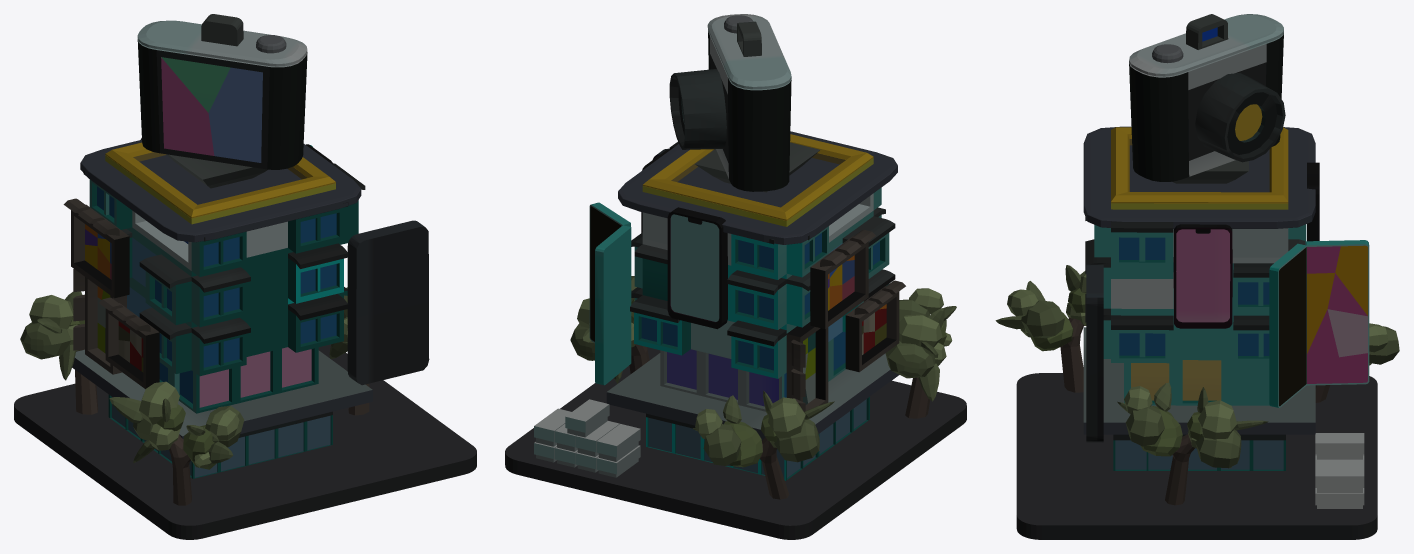
The picture shows the model from 3 angles, left to right: view 1: azimuth 30°, elevation 25°; view 2: azimuth 150°, elevation 25°; view 3: azimuth 270°, elevation 25°; orthographic projection. The views are drawn at different scales.
Visible parts, largest first — view 1: Plane.023; view 2: Plane.023; view 3: Plane.023.
Boxes of the visible parts, x1,y1,x2,y2 form: Plane.023: (14, 14, 476, 539); Plane.023: (505, 14, 966, 539); Plane.023: (995, 14, 1399, 539).
Size of the model in its own units: 2.81 by 3.55 by 3.
1 material, 1 textured.
